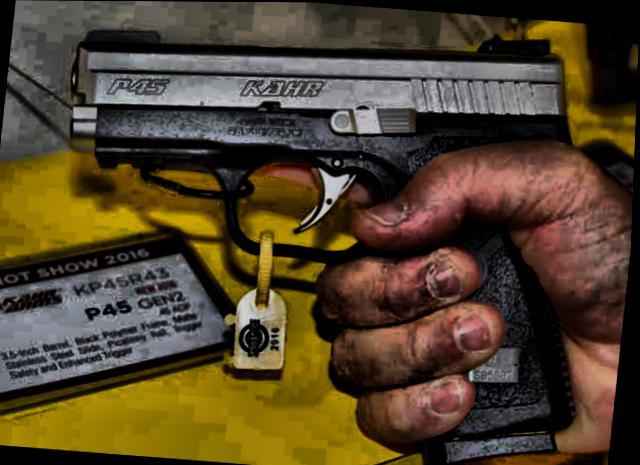pistol: (33, 1, 618, 461)
